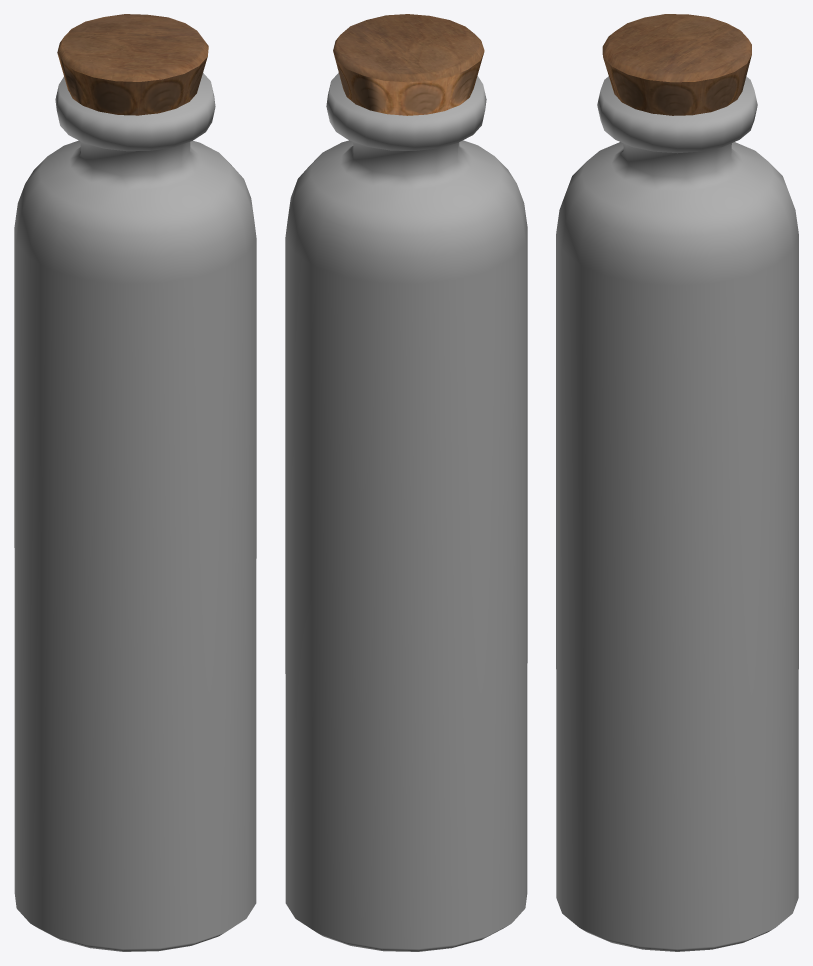
Rendered from SM_Potion_Props_Bottle_Medium_01_B.fbx.
3 renders of one model, left to right at view 1: azimuth 30°, elevation 25°; view 2: azimuth 150°, elevation 25°; view 3: azimuth 270°, elevation 25°, orthographic.
Visible parts, largest first — view 1: SM_Potion_Props_Bottle_Medium_01_B_LOD0; view 2: SM_Potion_Props_Bottle_Medium_01_B_LOD0; view 3: SM_Potion_Props_Bottle_Medium_01_B_LOD0.
Boxes of the visible parts, x1,y1,x2,y2 form: SM_Potion_Props_Bottle_Medium_01_B_LOD0: (14,14,256,951); SM_Potion_Props_Bottle_Medium_01_B_LOD0: (285,14,527,951); SM_Potion_Props_Bottle_Medium_01_B_LOD0: (556,14,798,951).
Size of what is drawn, in the model's own units: 8.34 by 32.62 by 8.34.
